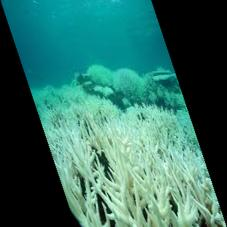bleached_corals: (39, 86, 227, 227)
